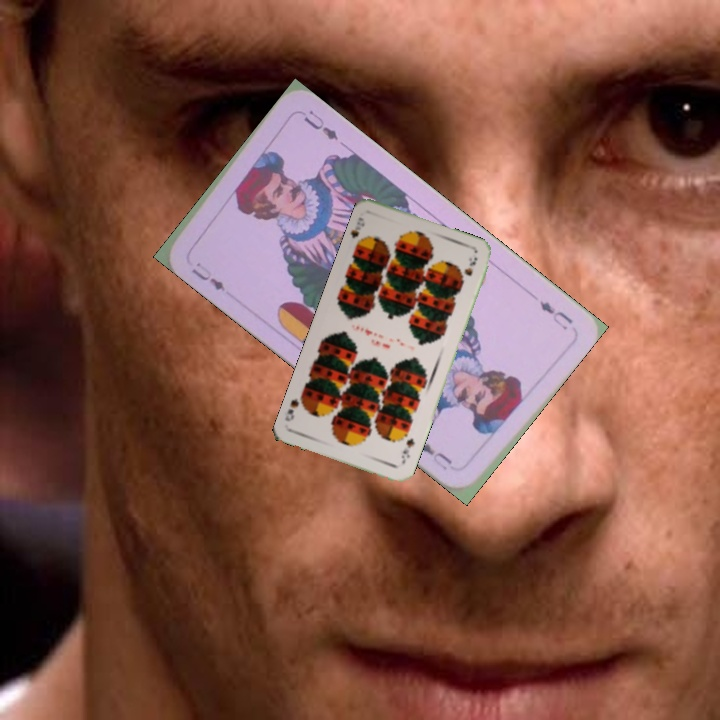EU: (535, 296, 575, 333), (187, 258, 228, 294)
S9: (347, 213, 367, 251), (397, 434, 417, 466)
